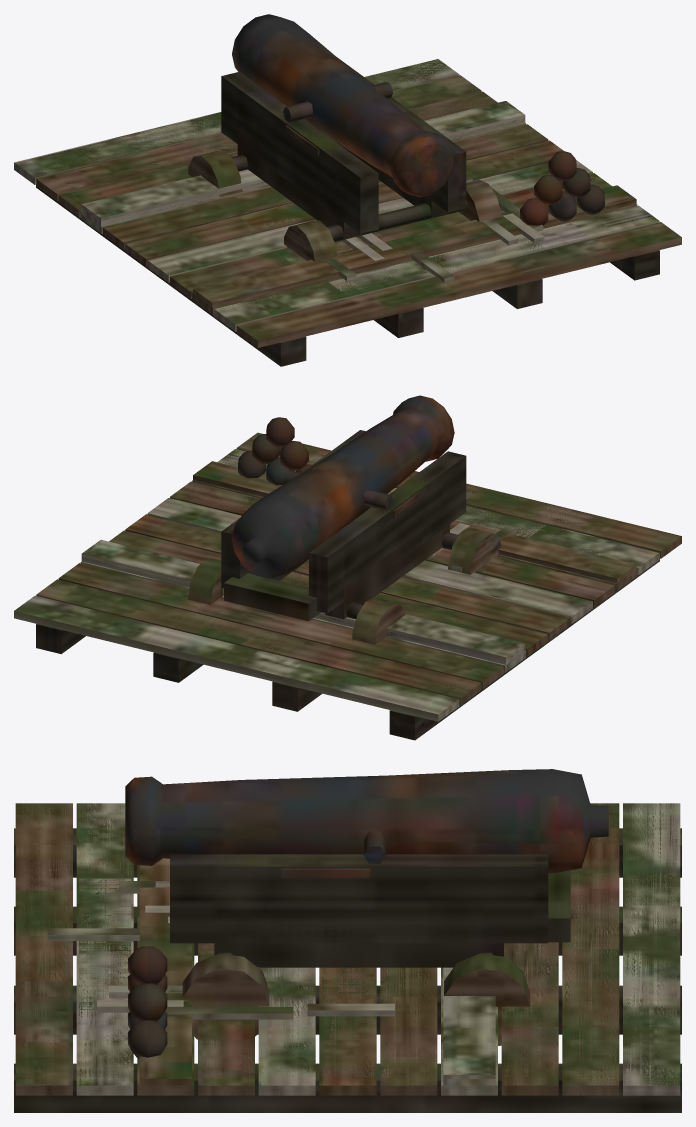
Rendered from starfort_gun_platform_live.glb.
3 renders of one model, top to bottom at view 1: azimuth 30°, elevation 25°; view 2: azimuth 150°, elevation 25°; view 3: azimuth 270°, elevation 25°, orthographic. The views are drawn at different scales.
Parts seen in each view (by area): view 1: intact, cracked, carriage, barrel, breached, ammo; view 2: intact, cracked, carriage, barrel, breached, ammo; view 3: intact, cracked, carriage, barrel, breached, ammo.
Boxes of the visible parts, left/top/right/bottom form: intact: left=14, top=59, right=681, bottom=366; cracked: left=15, top=59, right=636, bottom=346; carriage: left=188, top=58, right=501, bottom=261; barrel: left=232, top=14, right=454, bottom=197; breached: left=81, top=101, right=543, bottom=293; ammo: left=520, top=151, right=604, bottom=225; intact: left=14, top=432, right=681, bottom=740; cracked: left=81, top=433, right=680, bottom=720; carriage: left=188, top=430, right=501, bottom=644; barrel: left=232, top=395, right=454, bottom=578; breached: left=81, top=489, right=545, bottom=708; ammo: left=238, top=417, right=311, bottom=485; intact: left=14, top=803, right=681, bottom=1112; cracked: left=18, top=803, right=677, bottom=1095; carriage: left=170, top=854, right=570, bottom=1045; barrel: left=125, top=769, right=608, bottom=873; breached: left=79, top=878, right=622, bottom=1085; ammo: left=128, top=946, right=167, bottom=1059.
Size of what is drawn, in the model's own units: 3 by 1.05 by 3.
1 material, 1 textured.
